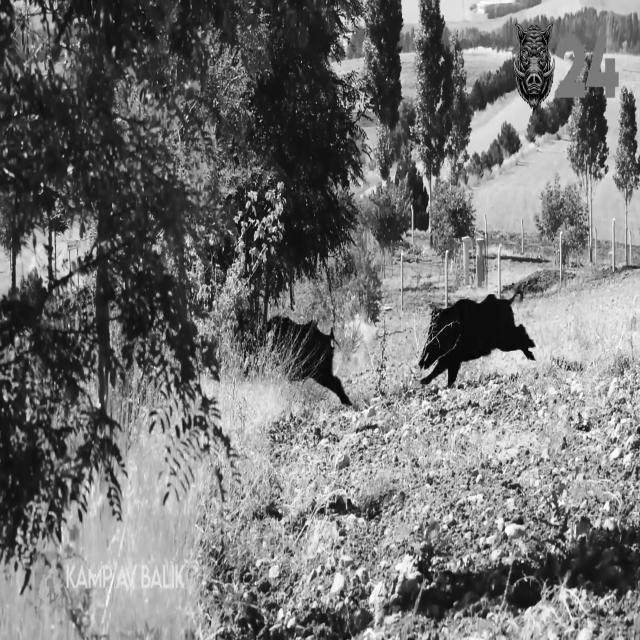boar: (237, 312, 350, 407), (418, 294, 534, 386)
